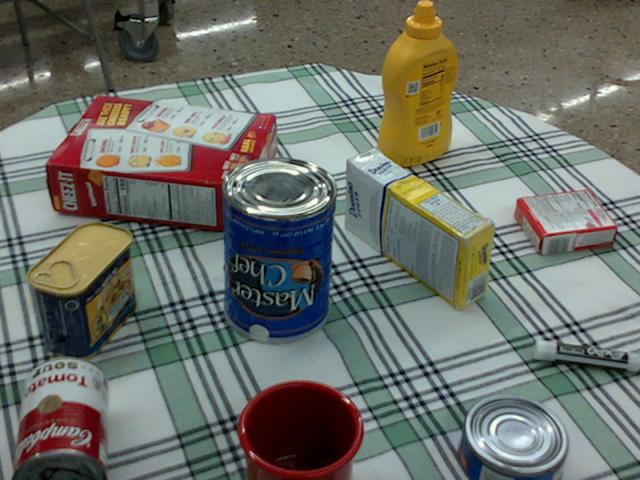cracker_box: (46, 96, 272, 230)
gelatin_box: (513, 190, 615, 255)
large_marker: (534, 339, 639, 371)
master_chef_can: (220, 156, 335, 342)
mug: (231, 380, 360, 479)
mustard_bottle: (376, 0, 456, 165)
potted_meat_can: (28, 221, 134, 359)
sugar_box: (344, 149, 494, 309)
tomato_soup_can: (7, 356, 107, 479)
tuna_fish_can: (457, 396, 568, 479)
